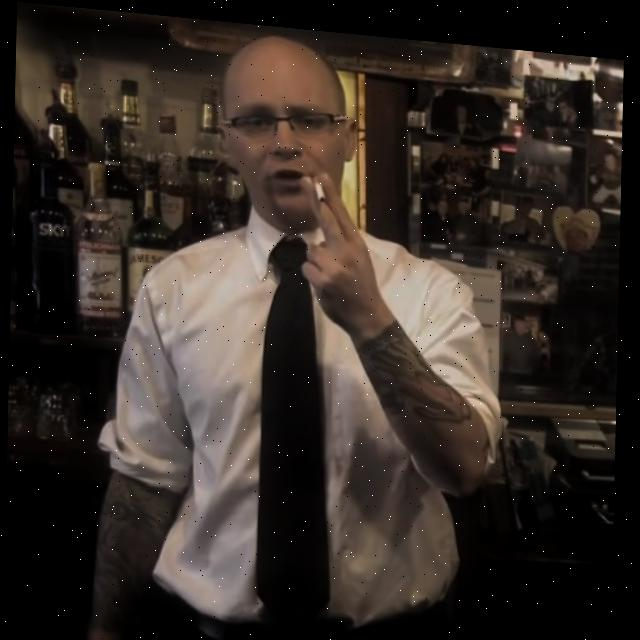cigarette: (313, 170, 327, 199)
